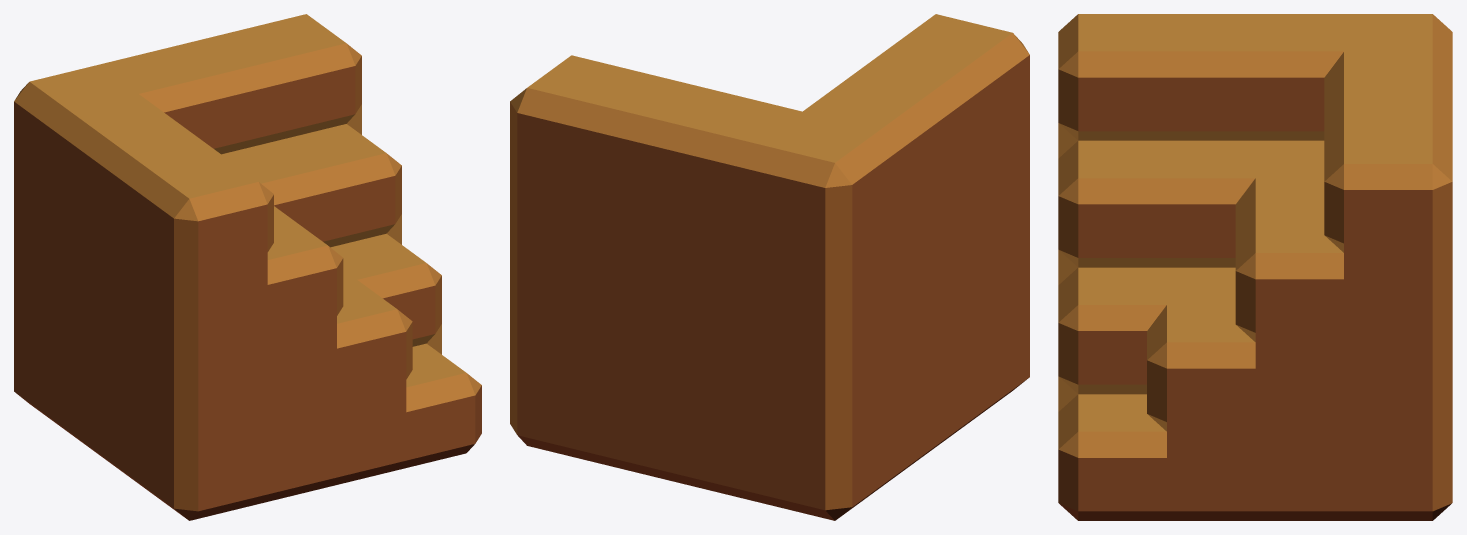
Rendered from m_kub_wood_stairs_block_cornerIn.FBX.
3 renders of one model, left to right at view 1: azimuth 30°, elevation 25°; view 2: azimuth 150°, elevation 25°; view 3: azimuth 270°, elevation 25°, orthographic. The views are drawn at different scales.
Parts seen in each view (by area): view 1: m_kub_wood_stairs_block_cornerIn; view 2: m_kub_wood_stairs_block_cornerIn; view 3: m_kub_wood_stairs_block_cornerIn.
Boxes of the visible parts, x1=… form: m_kub_wood_stairs_block_cornerIn: x1=14, y1=14, x2=481, y2=520; m_kub_wood_stairs_block_cornerIn: x1=510, y1=14, x2=1029, y2=520; m_kub_wood_stairs_block_cornerIn: x1=1058, y1=14, x2=1452, y2=520.
Size of the model in its own units: 2 by 2 by 2.
